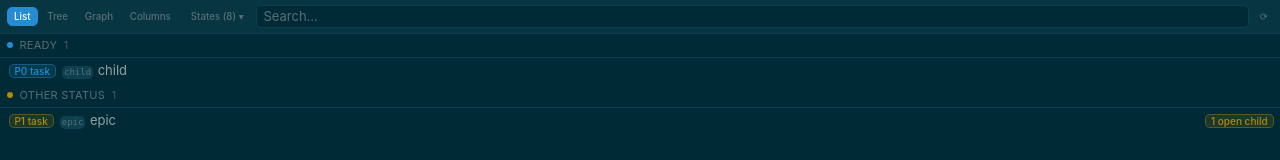
Test case: TreeView render (T3, FR2/FR4) › collapses and expands a parent without selecting it
Click the radio button with aria-label "Tree view": (58, 16) [40,6,76,26]
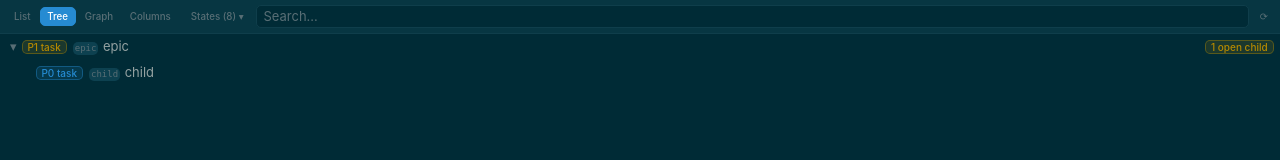
expect the 1st text "child" is shown: met, box [89,68,120,81]
Click the button named "Collapse": (13, 47) [8,37,18,56]
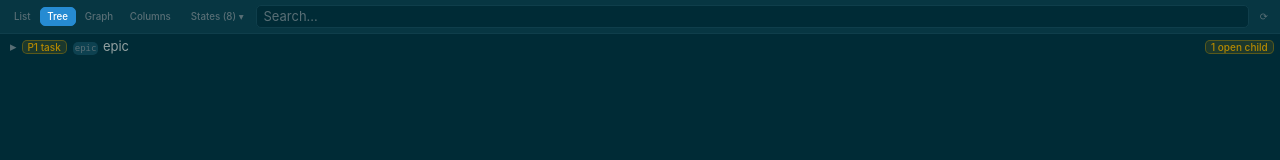
Click the button named "Expand": (13, 47) [8,37,18,56]
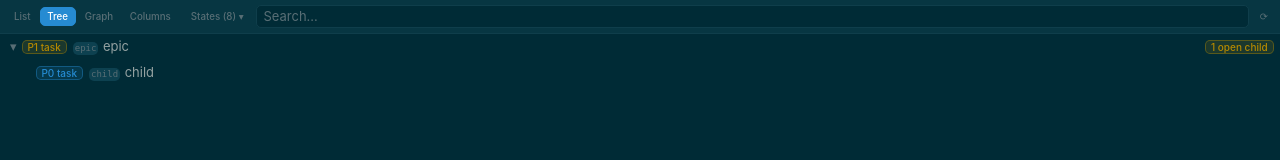
expect the 1st text "child" is shown: met, box [89,68,120,81]
